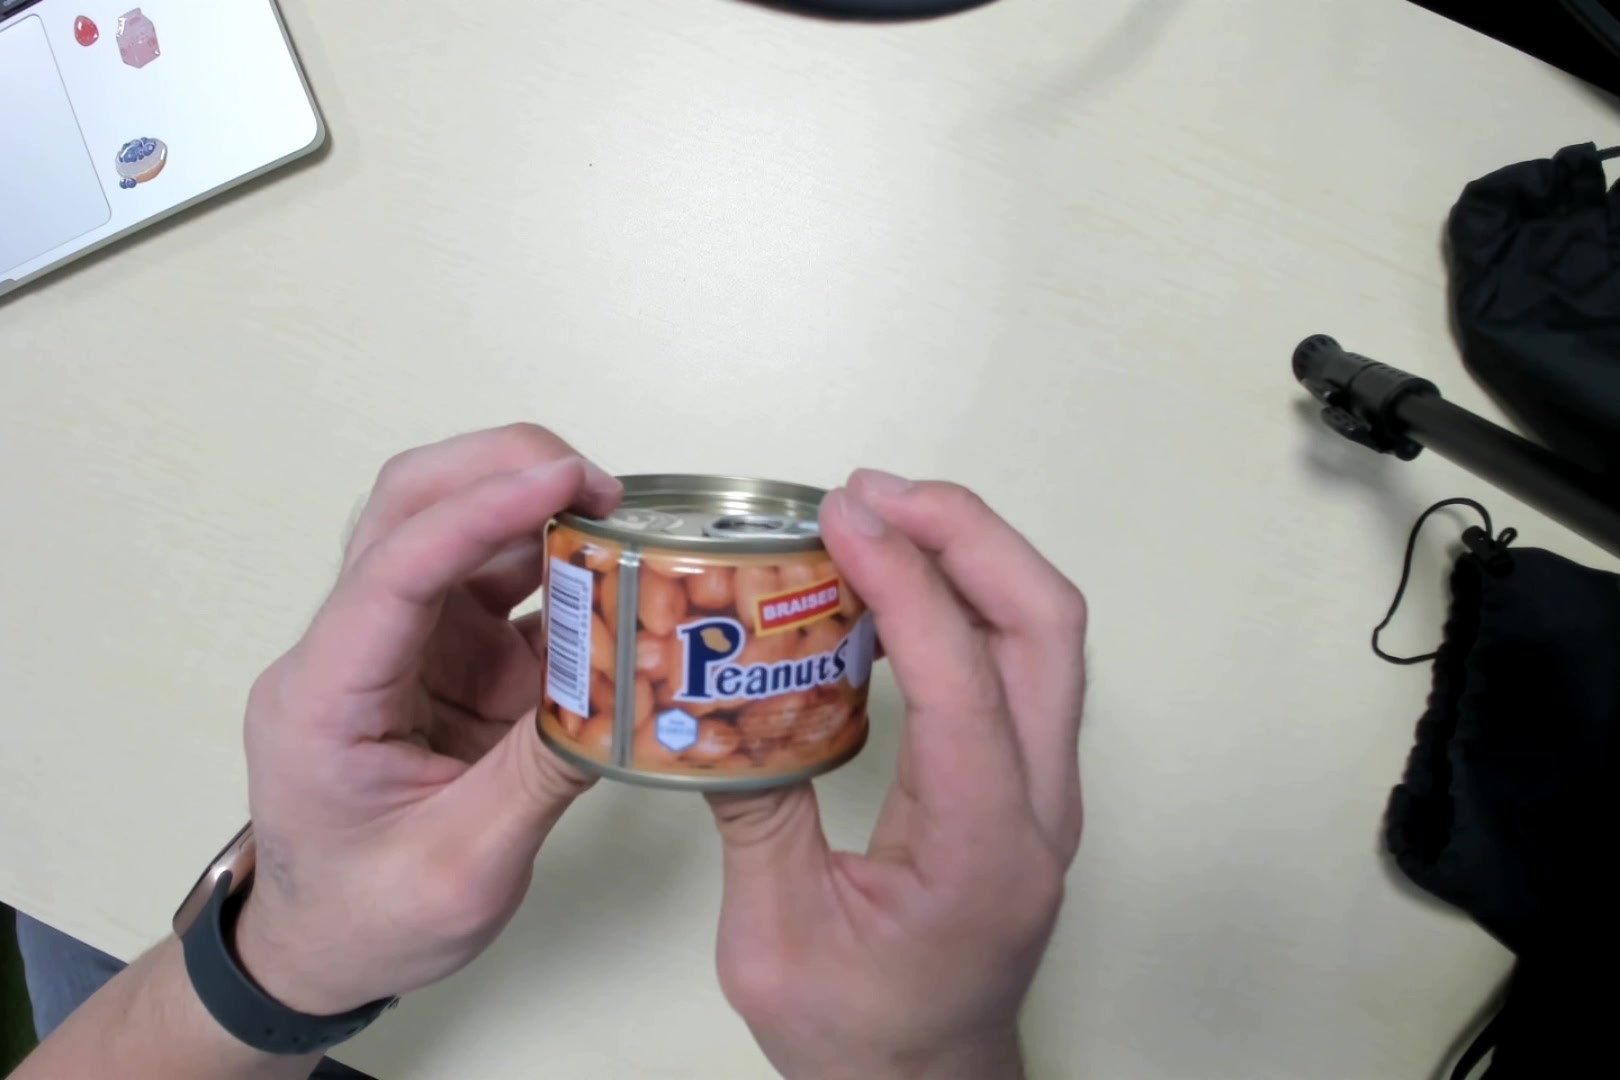CannedBraisedPeanuts_100-199g_NonHalal_NonHealthy: (542, 485, 875, 785)
